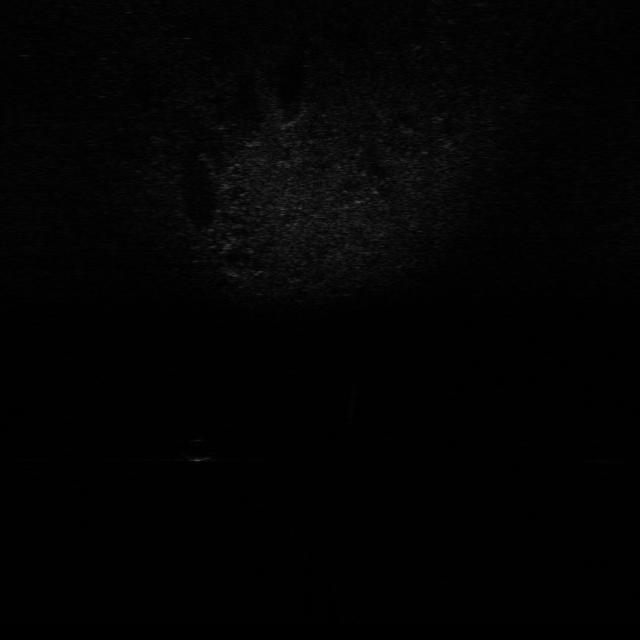ball: (178, 435, 220, 465)
